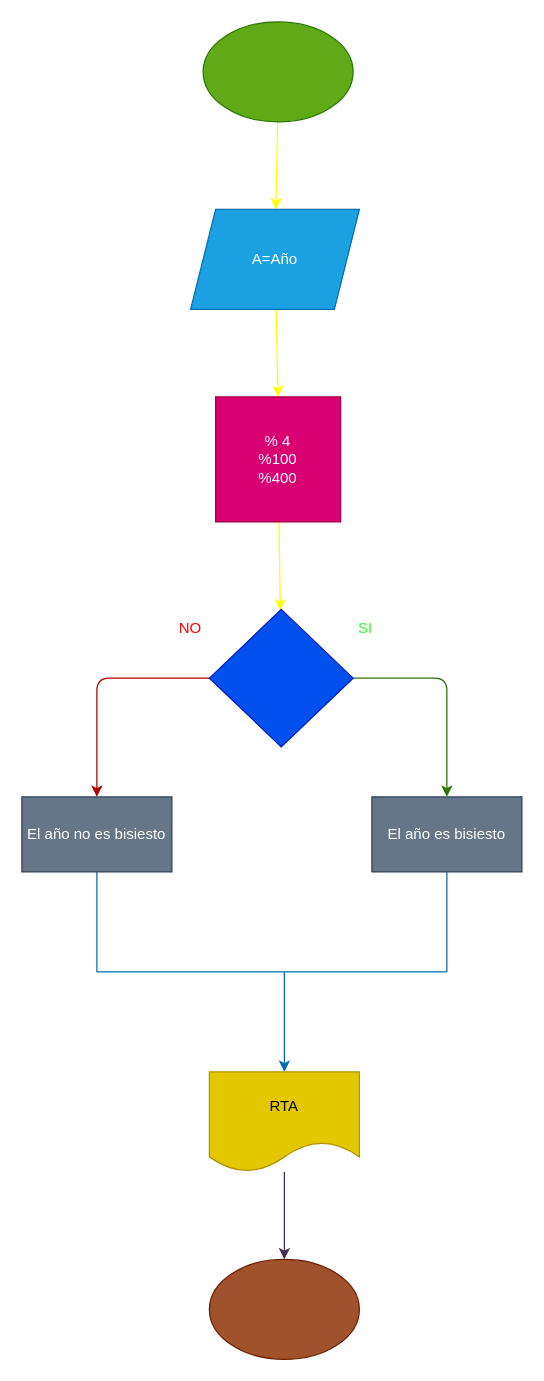
This 544x1381 diagram has some shape labels left out. The box of each missing label's shape, as (x1, y1, x2, y2) in pixels:
A%4=0 A%100!=0 A%400=0: (208, 608, 353, 747)
FIN: (208, 1258, 359, 1359)
INICIO: (202, 21, 353, 122)
